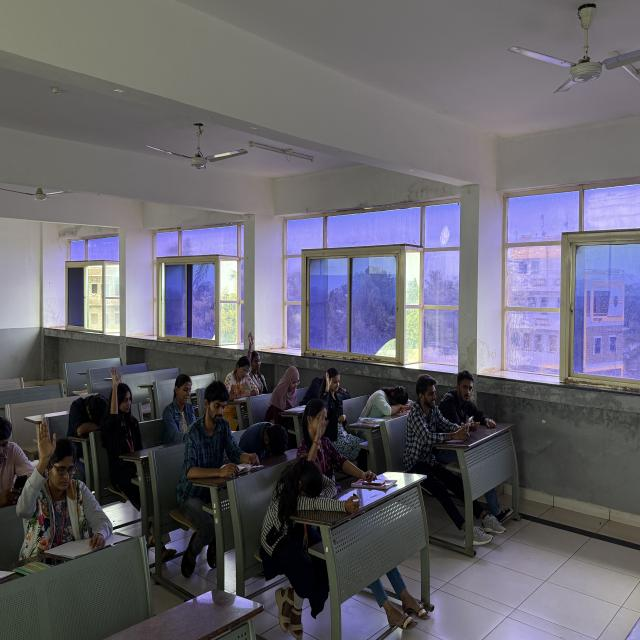Hand Rising: (14, 414, 102, 552), (101, 362, 147, 467), (243, 328, 268, 392)
Reading: (179, 378, 270, 482), (269, 362, 311, 419), (222, 356, 267, 408)
Sleeping: (250, 452, 366, 532), (232, 409, 296, 464), (357, 378, 419, 429), (63, 389, 112, 442)
Using Phone: (406, 366, 480, 458)
